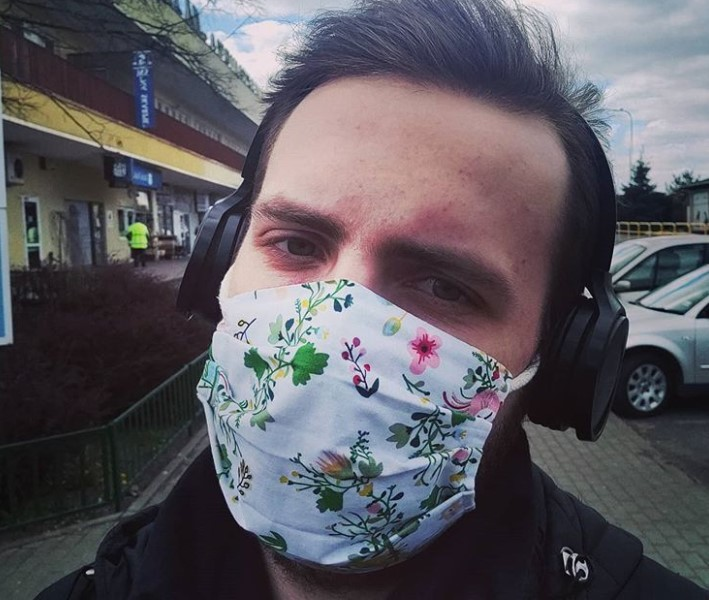face_with_mask: (192, 54, 606, 587)
